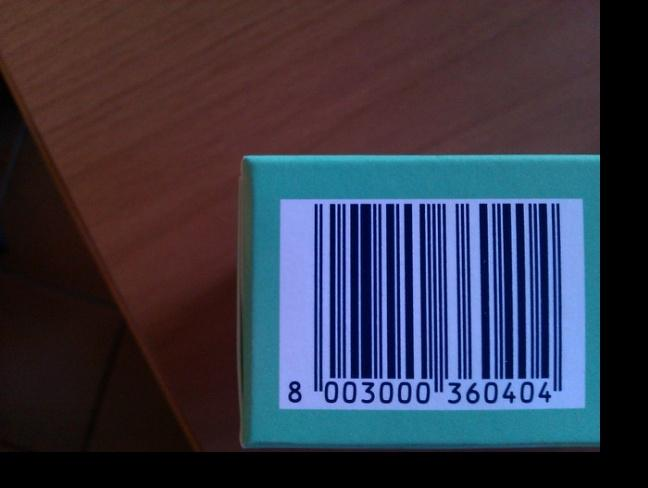Barcode: (280, 198, 587, 408)
